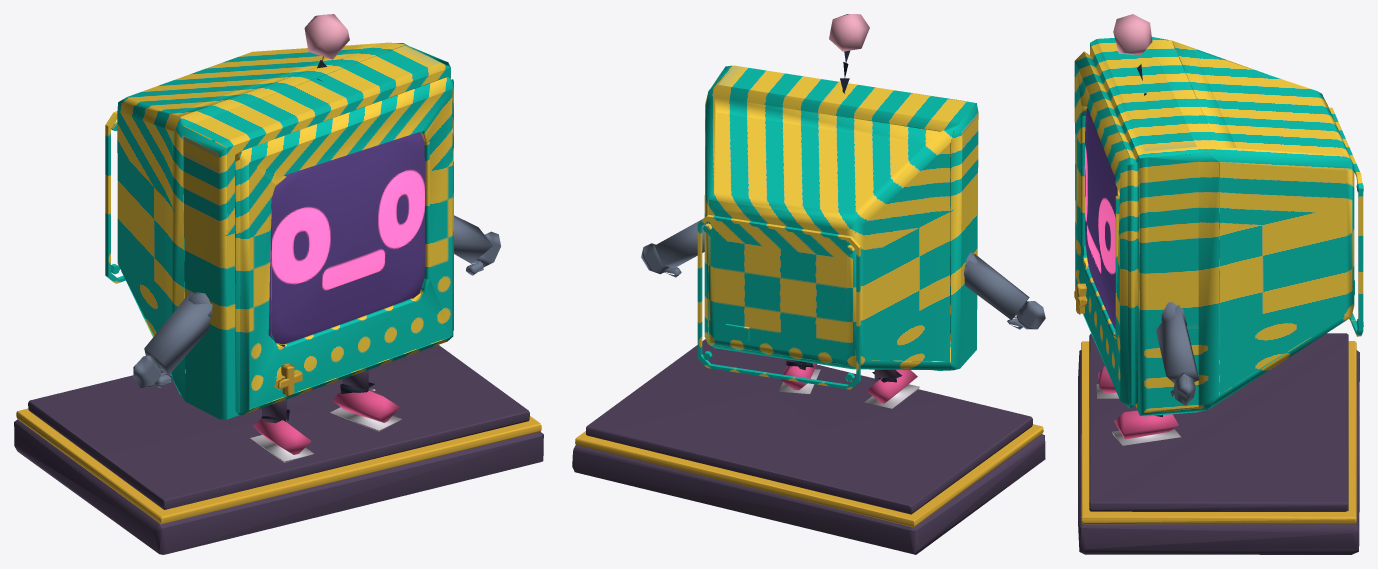
File: kart.paint.pattern-bundle.lod1.glb
3 renders of one model, left to right at view 1: azimuth 30°, elevation 25°; view 2: azimuth 150°, elevation 25°; view 3: azimuth 270°, elevation 25°, orthographic. The views are drawn at different scales.
Parts seen in each view (by area): view 1: emi_teacup_mesh, display_top, stand_identity_face, display_base, brass_band; view 2: emi_teacup_mesh, display_top, display_base, brass_band; view 3: emi_teacup_mesh, display_top, display_base, brass_band, stand_identity_face.
Boxes of the visible parts, x1,y1,x2,y2 form: emi_teacup_mesh: (105,14,500,462); display_top: (28,345,529,509); stand_identity_face: (268,132,426,346); display_base: (14,419,543,554); brass_band: (16,408,541,524); emi_teacup_mesh: (641,14,1045,408); display_top: (586,339,1032,514); display_base: (572,434,1045,554); brass_band: (575,424,1043,527); emi_teacup_mesh: (1074,14,1363,445); display_top: (1089,333,1348,511); display_base: (1078,350,1359,554); brass_band: (1081,341,1356,524); stand_identity_face: (1084,108,1117,334).
Size of the model in its own units: 0.6773 by 0.7519 by 0.4359.
Materials: 4 (3 with a texture image).
